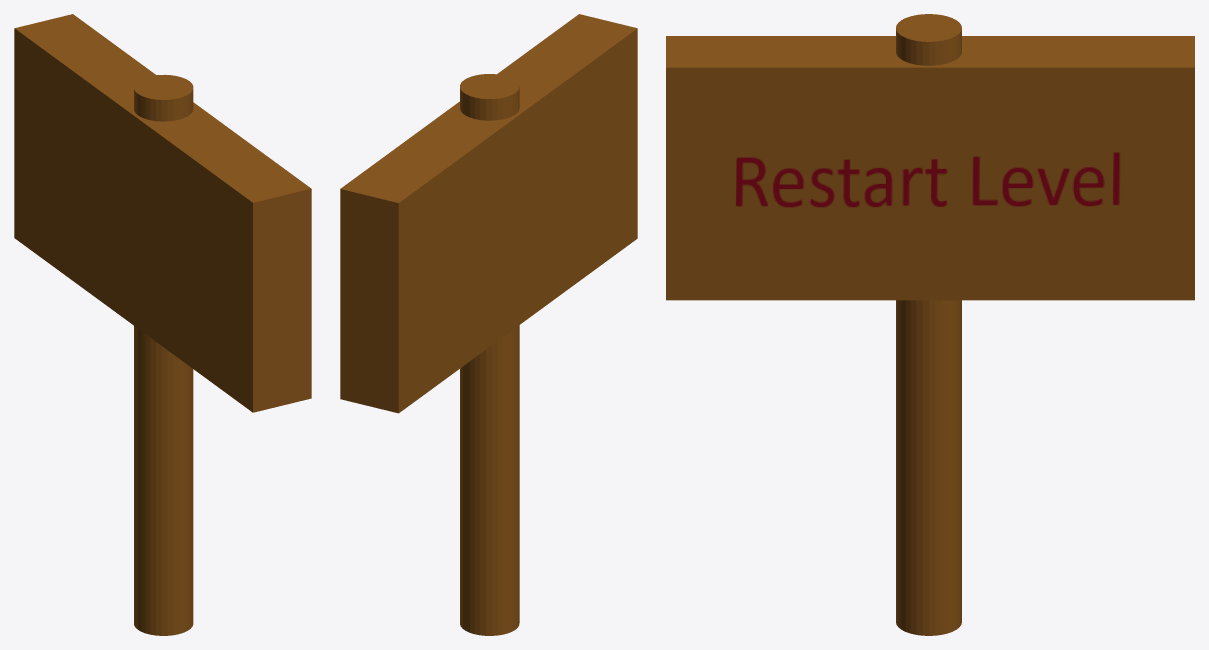
The model's file is signRestartLevel.fbx.
3 views of the same model, side by side, from view 1: azimuth 30°, elevation 25°; view 2: azimuth 150°, elevation 25°; view 3: azimuth 270°, elevation 25° (orthographic). The views are drawn at different scales.
Visible parts, largest first — view 1: Cube.007, Cylinder.007; view 2: Cube.007, Cylinder.007; view 3: Cube.007, Cylinder.007.
Boxes of the visible parts, box(x1,y1,x2,y2) form: Cube.007: box(14, 14, 311, 412); Cylinder.007: box(134, 74, 193, 635); Cube.007: box(340, 14, 637, 413); Cylinder.007: box(460, 74, 519, 635); Cube.007: box(666, 36, 1194, 300); Cylinder.007: box(896, 14, 961, 635).
Bounding box in the file's own units: 4.12 × 0.5827 × 5.11.
Materials: 2 (1 with a texture image).
